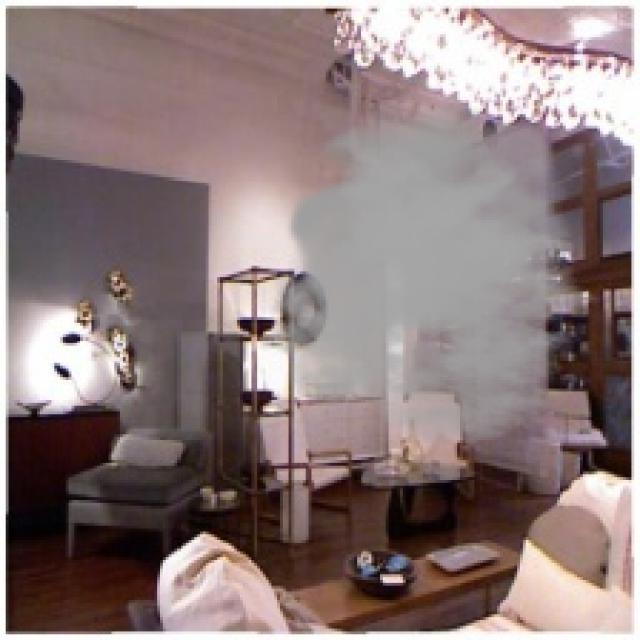Smoke: (257, 103, 617, 446)
